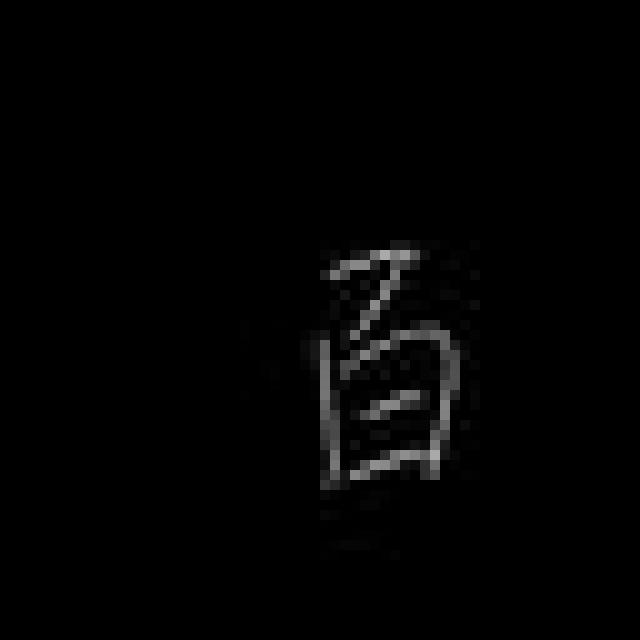100 -a hundred-: (304, 240, 467, 504)
